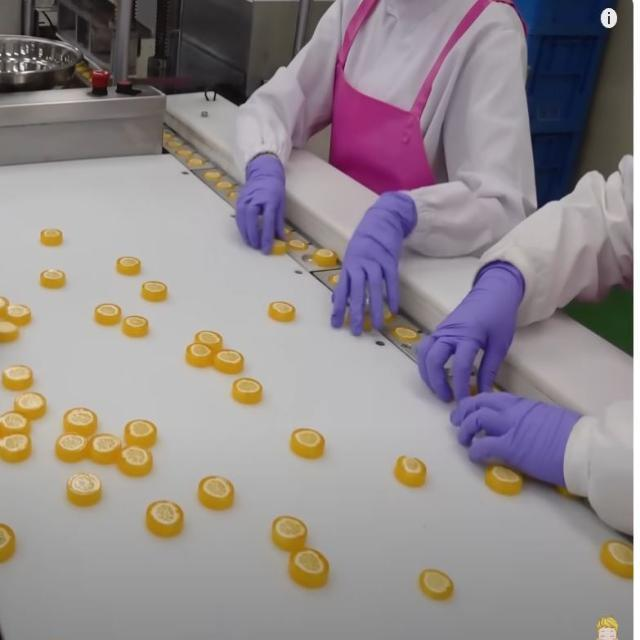gloved_hand: (420, 259, 530, 400), (325, 188, 421, 340), (447, 388, 597, 482), (234, 151, 294, 259)
